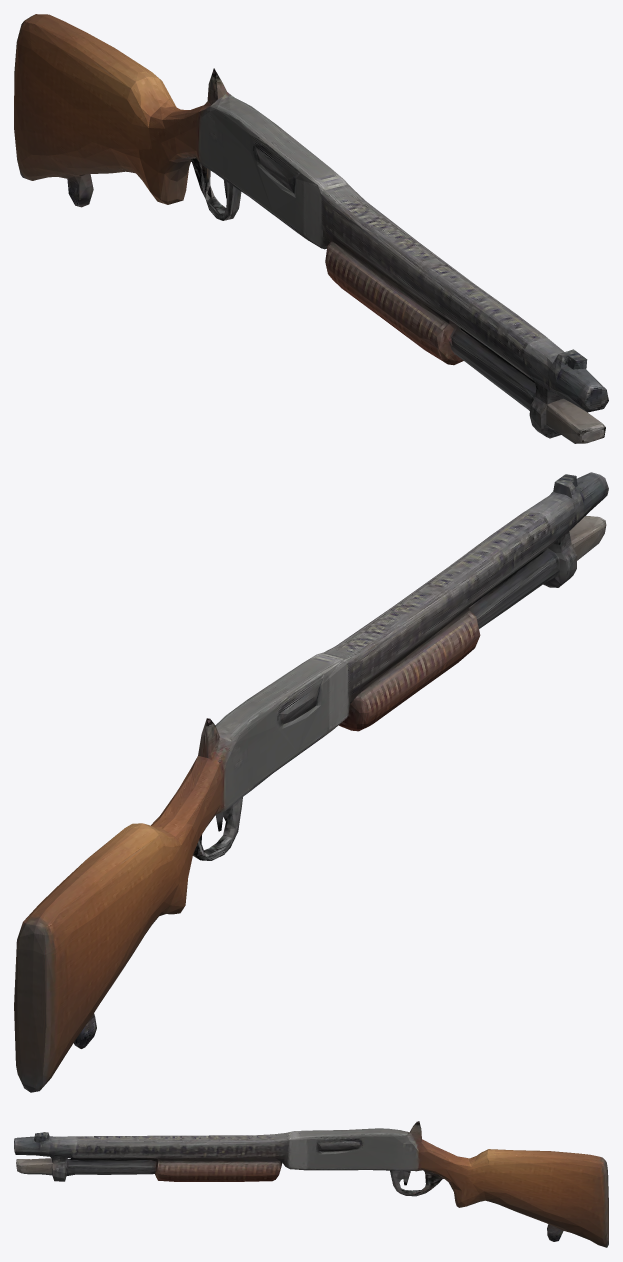
File: trenchgun.glb
3 renders of one model, top to bottom at view 1: azimuth 30°, elevation 25°; view 2: azimuth 150°, elevation 25°; view 3: azimuth 270°, elevation 25°, orthographic. The views are drawn at different scales.
Visible parts, largest first — view 1: geometry_0; view 2: geometry_0; view 3: geometry_0.
Boxes of the visible parts, x1,y1,x2,y2 form: geometry_0: [14, 14, 608, 443]; geometry_0: [14, 472, 608, 1092]; geometry_0: [14, 1121, 608, 1247].
Bounding box in the file's own units: 0.046 × 0.2352 × 1.
1 material, 1 textured.
